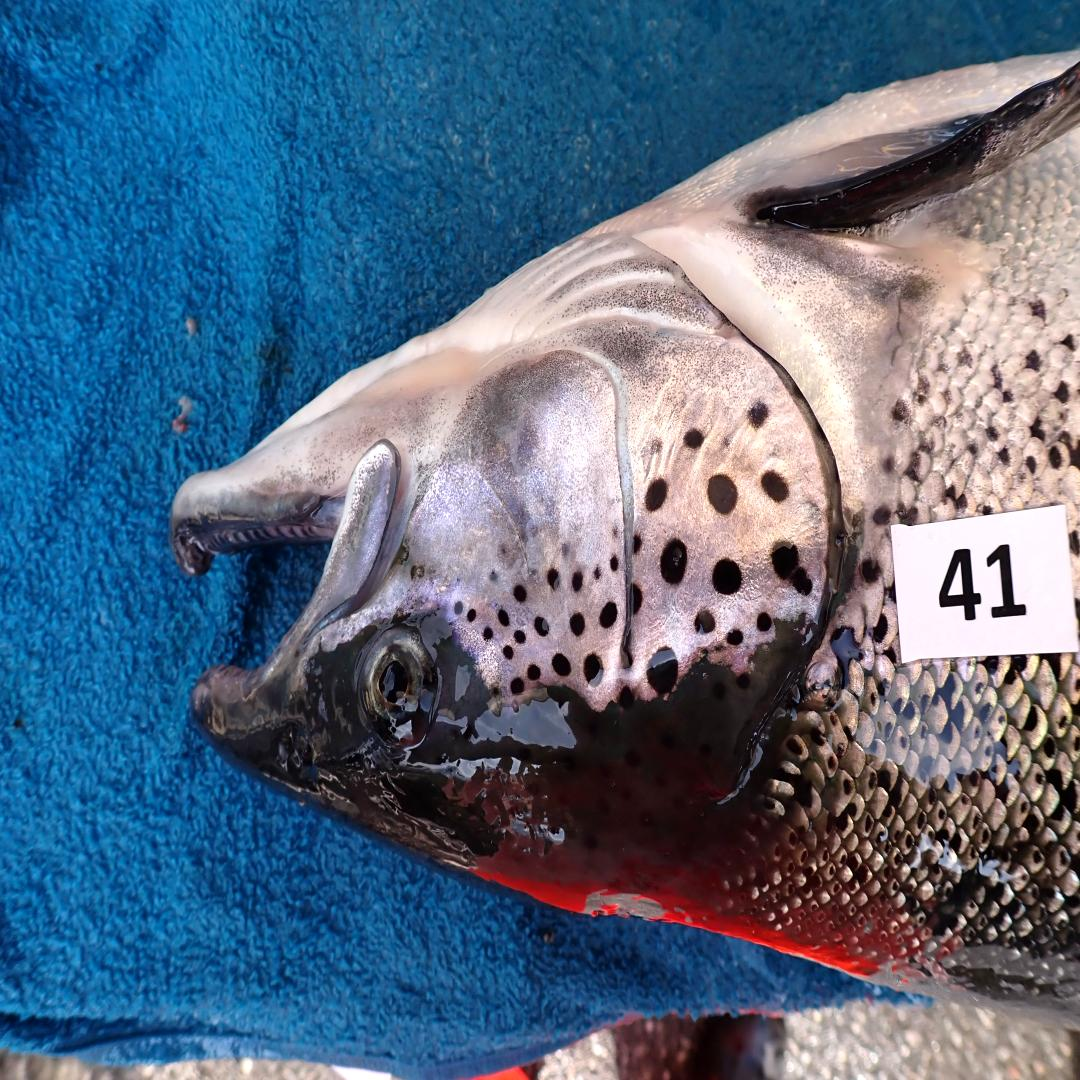roi: (399, 225, 843, 707)
